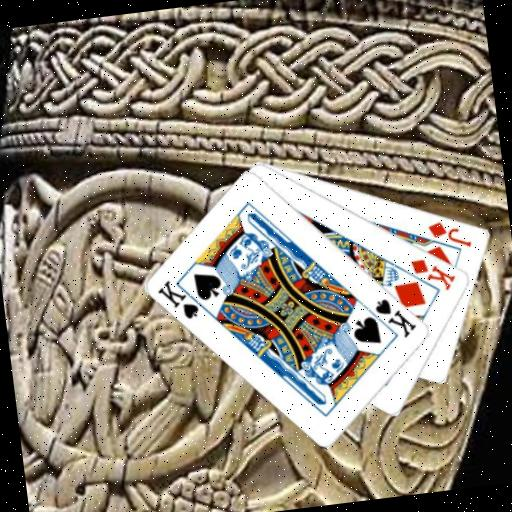JD: (424, 215, 474, 254)
KD: (408, 252, 459, 296)
KS: (154, 273, 211, 325), (371, 292, 420, 343)
